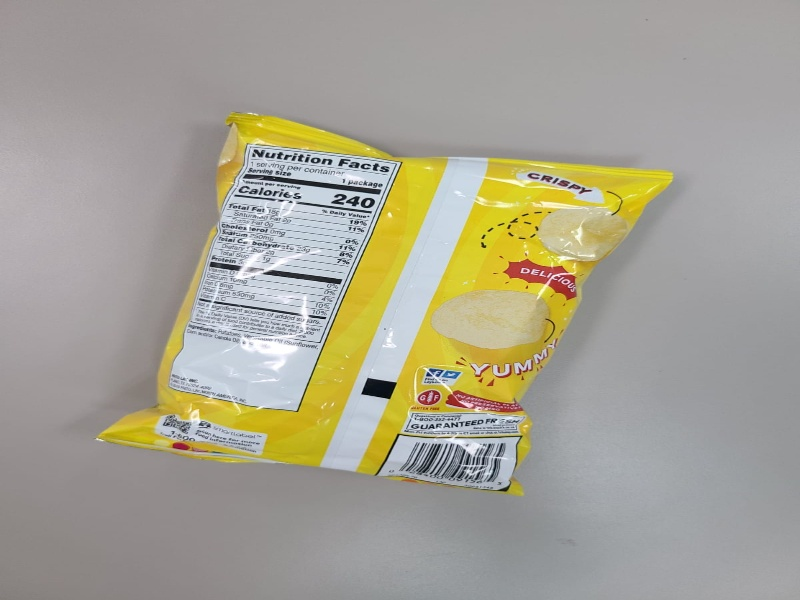lays: (97, 111, 677, 499)
